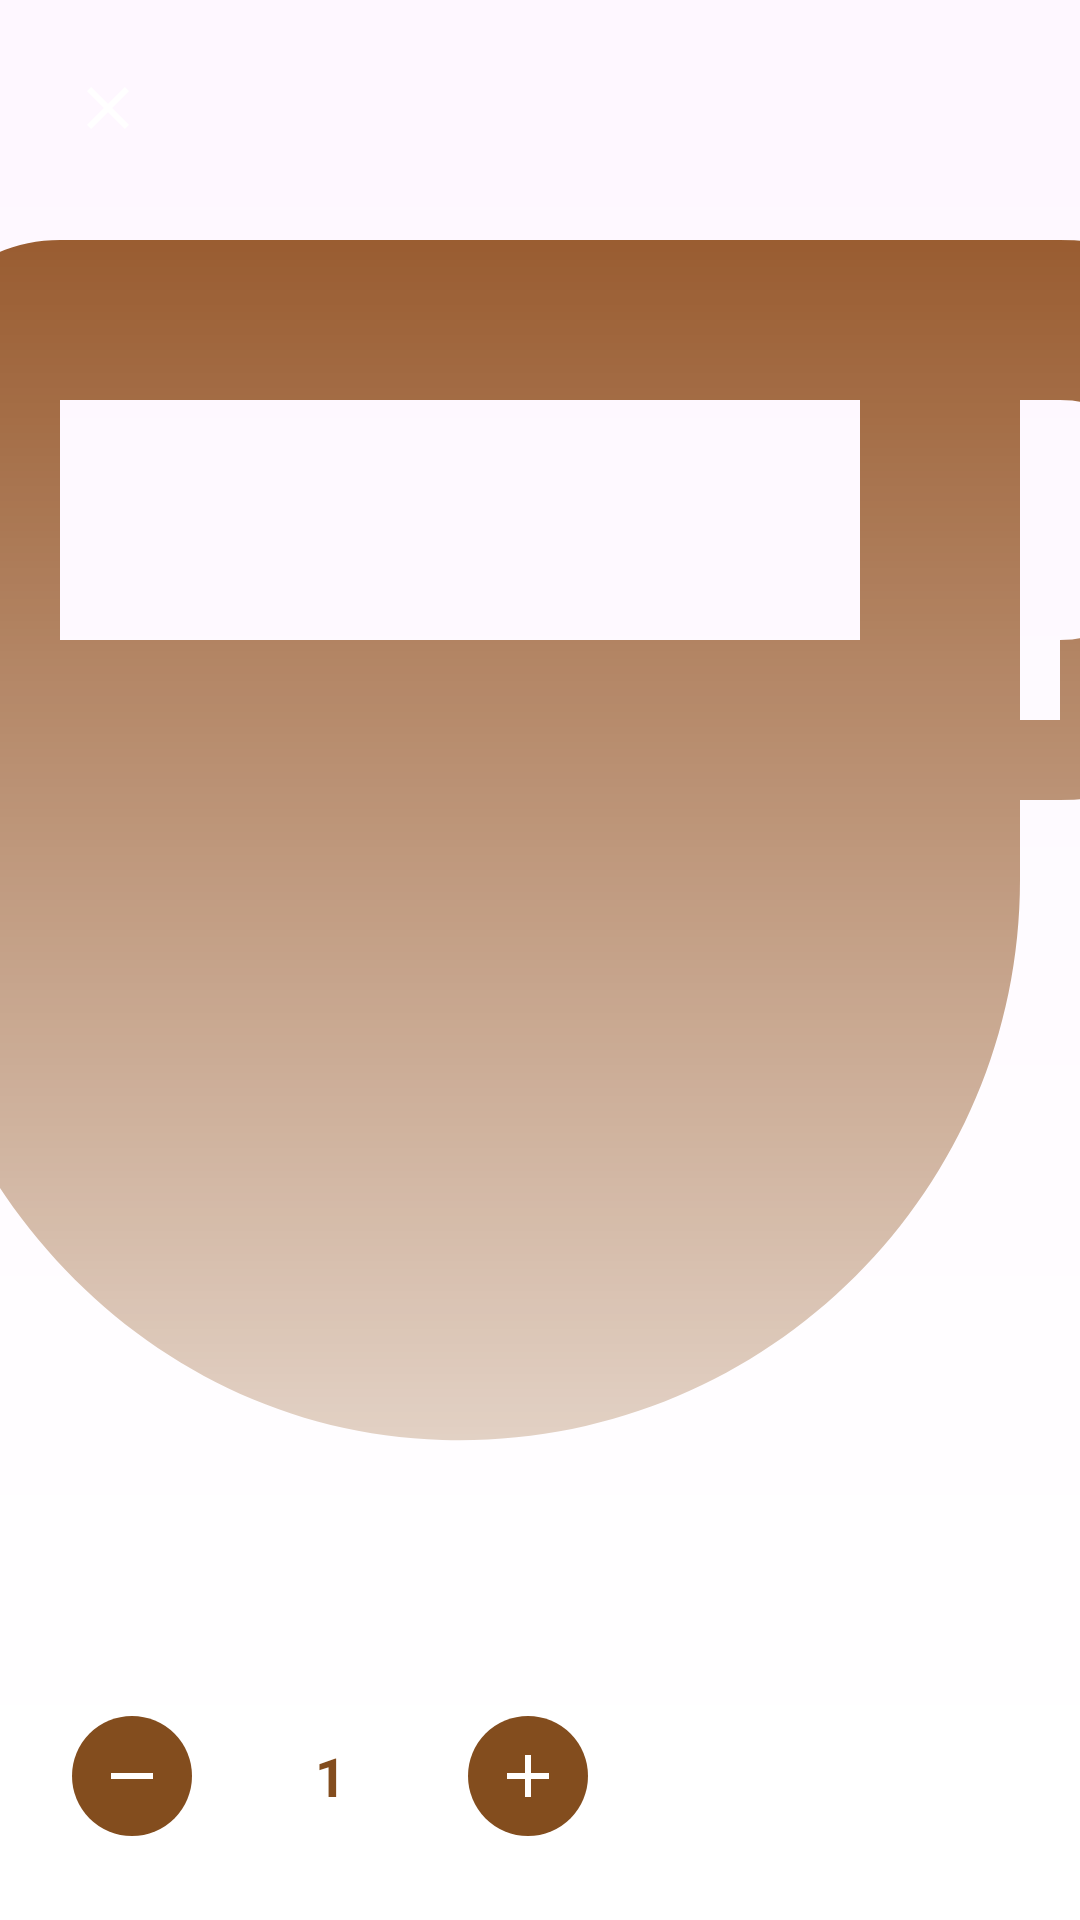

Named icons in this screenshot (1080px x 1920px) and their centers, point (x, y):
Decrease quantity: point (132, 1776)
Increase quantity: point (528, 1776)
